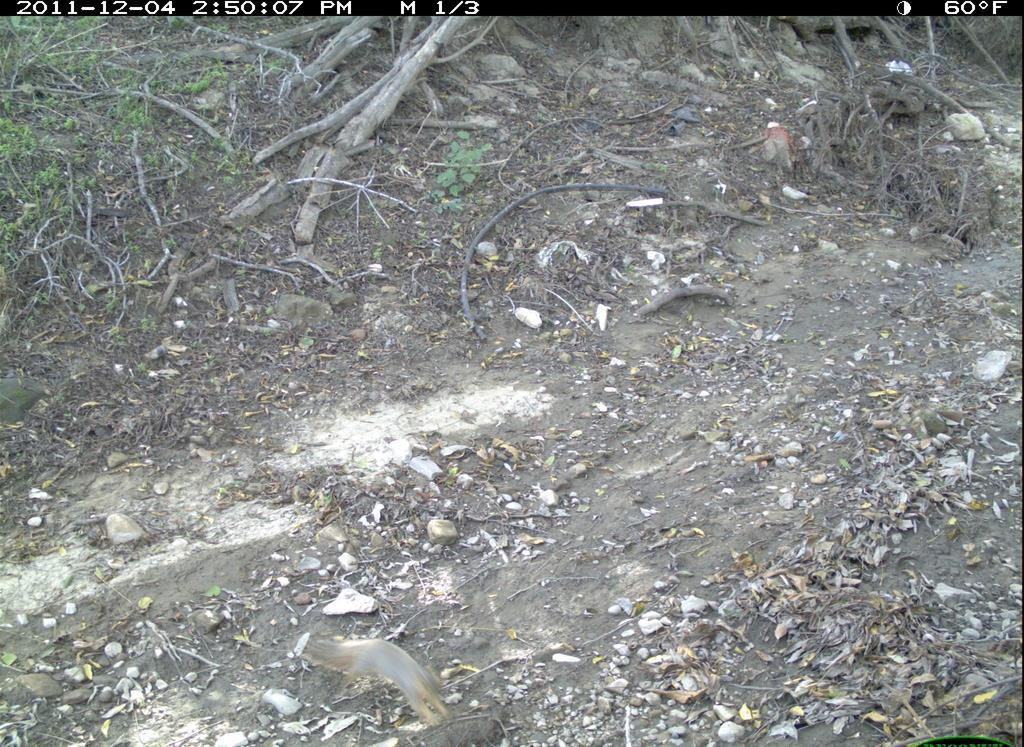squirrel: (310, 632, 456, 730)
